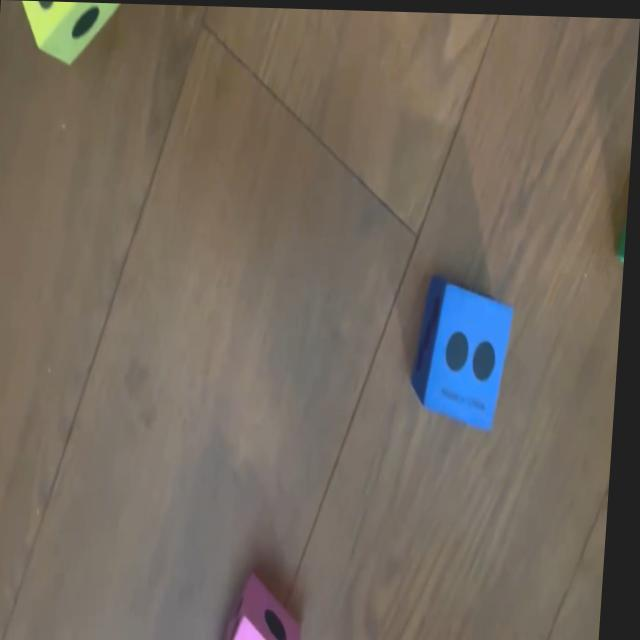cube: (413, 277, 519, 430)
